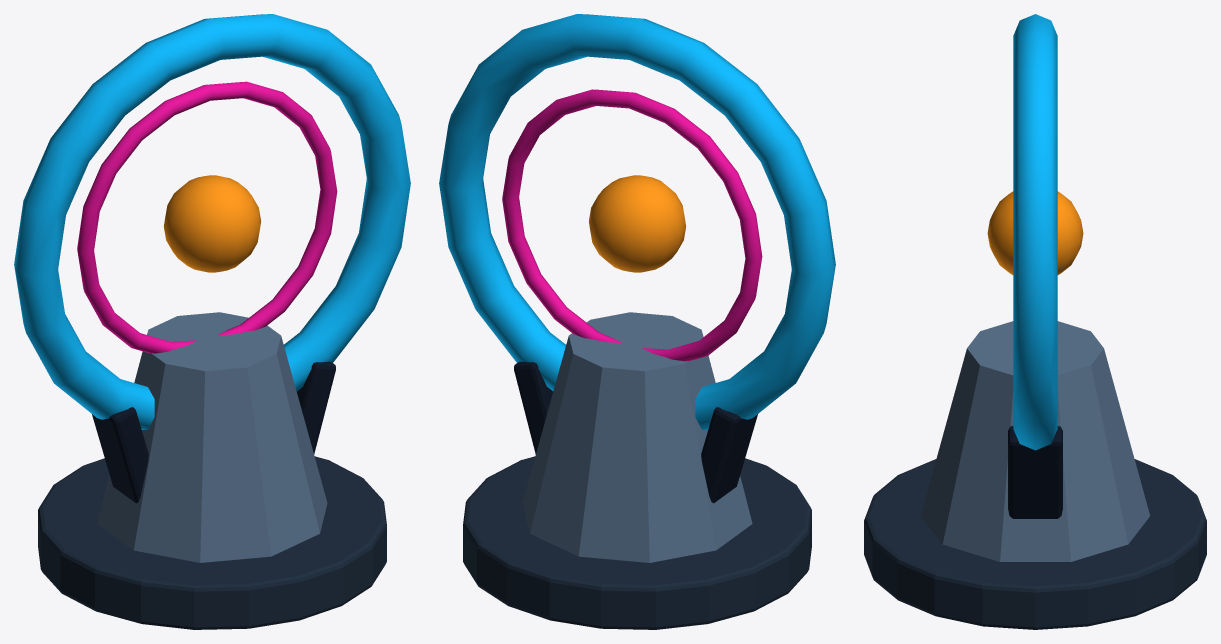
The model's file is circuit_hologram_checkpoint.obj.
The picture shows the model from 3 angles, left to right: view 1: azimuth 30°, elevation 25°; view 2: azimuth 150°, elevation 25°; view 3: azimuth 270°, elevation 25°; orthographic projection. The views are drawn at different scales.
Parts seen in each view (by area): view 1: race_checkpoint_ring_outer_M_cyan, race_checkpoint_pedestal_M_steel, race_checkpoint_base_M_gunmetal, race_checkpoint_ring_inner_M_magenta, race_checkpoint_core_M_gold, race_checkpoint_fin_1_M_navy, race_checkpoint_fin_0_M_navy; view 2: race_checkpoint_ring_outer_M_cyan, race_checkpoint_pedestal_M_steel, race_checkpoint_base_M_gunmetal, race_checkpoint_ring_inner_M_magenta, race_checkpoint_core_M_gold, race_checkpoint_fin_1_M_navy, race_checkpoint_fin_0_M_navy; view 3: race_checkpoint_pedestal_M_steel, race_checkpoint_base_M_gunmetal, race_checkpoint_ring_outer_M_cyan, race_checkpoint_fin_0_M_navy, race_checkpoint_core_M_gold.
Boxes of the visible parts, left/top/right/bottom form: race_checkpoint_ring_outer_M_cyan: left=14, top=14, right=410, bottom=429; race_checkpoint_pedestal_M_steel: left=97, top=312, right=327, bottom=562; race_checkpoint_base_M_gunmetal: left=38, top=456, right=386, bottom=629; race_checkpoint_ring_inner_M_magenta: left=77, top=81, right=337, bottom=353; race_checkpoint_core_M_gold: left=163, top=175, right=261, bottom=272; race_checkpoint_fin_1_M_navy: left=92, top=407, right=148, bottom=503; race_checkpoint_fin_0_M_navy: left=296, top=361, right=335, bottom=454; race_checkpoint_ring_outer_M_cyan: left=439, top=14, right=835, bottom=429; race_checkpoint_pedestal_M_steel: left=522, top=312, right=752, bottom=562; race_checkpoint_base_M_gunmetal: left=463, top=456, right=811, bottom=629; race_checkpoint_ring_inner_M_magenta: left=502, top=89, right=762, bottom=361; race_checkpoint_core_M_gold: left=588, top=175, right=686, bottom=272; race_checkpoint_fin_1_M_navy: left=701, top=407, right=757, bottom=503; race_checkpoint_fin_0_M_navy: left=514, top=361, right=553, bottom=454; race_checkpoint_pedestal_M_steel: left=921, top=321, right=1149, bottom=561; race_checkpoint_base_M_gunmetal: left=864, top=459, right=1206, bottom=629; race_checkpoint_ring_outer_M_cyan: left=1013, top=14, right=1057, bottom=450; race_checkpoint_fin_0_M_navy: left=1008, top=426, right=1062, bottom=518; race_checkpoint_core_M_gold: left=987, top=191, right=1083, bottom=274.
Size of the model in its own units: 1.29 by 1.7 by 1.
